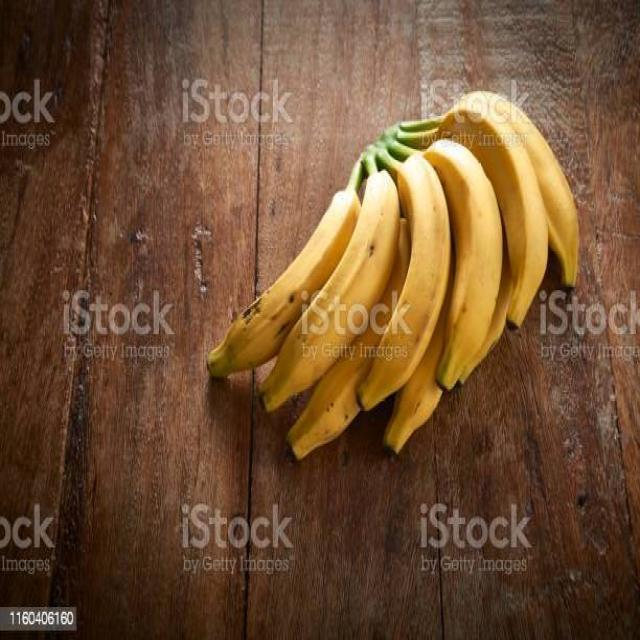banana: (203, 86, 585, 466)
